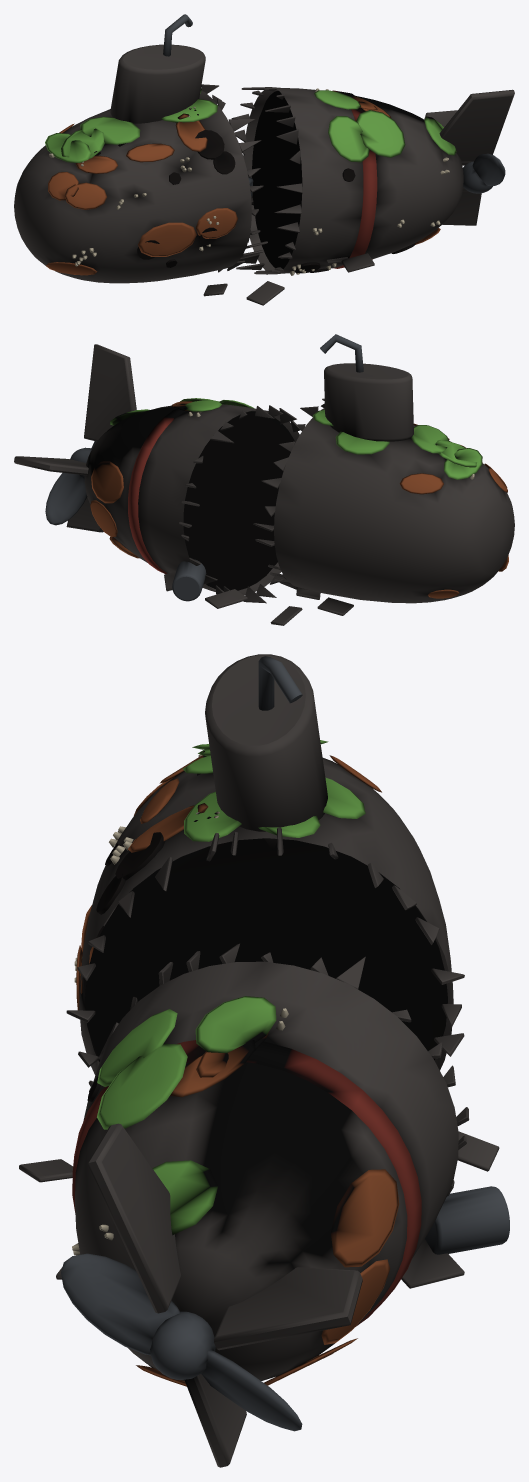
The model's file is wreck_sub.glb.
The picture shows the model from 3 angles, top to bottom: view 1: azimuth 30°, elevation 25°; view 2: azimuth 150°, elevation 25°; view 3: azimuth 270°, elevation 25°; orthographic projection. The views are drawn at different scales.
Parts seen in each view (by area): view 1: wreck_front, wreck_rear, wreck_prop, wreck_debris; view 2: wreck_front, wreck_rear, wreck_debris, wreck_prop; view 3: wreck_rear, wreck_front, wreck_prop, wreck_debris.
Part boxes in pixels (left/top/right/bottom): wreck_front: left=14, top=14, right=267, bottom=283; wreck_rear: left=231, top=87, right=514, bottom=275; wreck_prop: left=462, top=153, right=505, bottom=193; wreck_debris: left=203, top=177, right=374, bottom=305; wreck_front: left=253, top=334, right=514, bottom=603; wreck_rear: left=14, top=344, right=300, bottom=603; wreck_debris: left=164, top=559, right=353, bottom=625; wreck_prop: left=45, top=441, right=96, bottom=525; wreck_rear: left=72, top=943, right=469, bottom=1467; wreck_front: left=66, top=654, right=464, bottom=1086; wreck_prop: left=61, top=1253, right=302, bottom=1431; wreck_debris: left=19, top=1131, right=509, bottom=1288.
Size of the model in its own units: 10.81 by 6.18 by 4.98.
